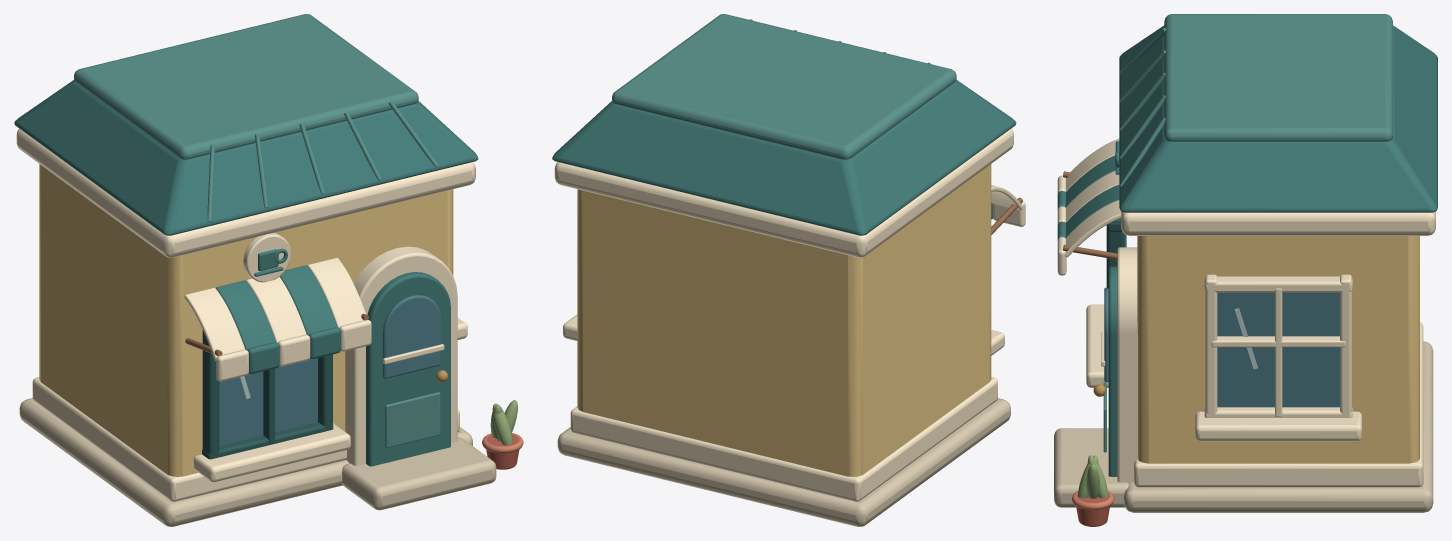
File: cafe_level_1_before.glb
The picture shows the model from 3 angles, left to right: view 1: azimuth 30°, elevation 25°; view 2: azimuth 150°, elevation 25°; view 3: azimuth 270°, elevation 25°; orthographic projection. The views are drawn at different scales.
Visible parts, largest first — view 1: Wall • butter plaster, Roof • soft hipped shell, Roof • rounded crown, Roof • cream cornice, Foundation • stone plinth, Door • teal panel, Door • step, Door • cream arch, Wall • cream skirting, Window • blue glazing, Door • inset glass, Window • deep sill (+17 smaller); view 2: Wall • butter plaster, Roof • soft hipped shell, Roof • rounded crown, Foundation • stone plinth, Roof • cream cornice, Wall • cream skirting; view 3: Wall • butter plaster, Roof • soft hipped shell, Roof • rounded crown, Window • blue glazing.001, Foundation • stone plinth, Wall • cream skirting, Roof • cream cornice, Door • cream arch, Window • deep sill.001, Door • step, Window • lintel.003, Door • teal panel (+14 smaller).
Part boxes in pixels (x1,y1,x2,y2): Wall • butter plaster: (39,164,453,476); Roof • soft hipped shell: (14,80,478,235); Roof • rounded crown: (74,14,418,159); Roof • cream cornice: (16,128,475,257); Foundation • stone plinth: (19,398,472,526); Door • teal panel: (366,272,450,466); Door • step: (342,437,496,510); Door • cream arch: (345,246,457,465); Wall • cream skirting: (32,377,459,501); Window • blue glazing: (219,358,317,445); Door • inset glass: (382,295,441,378); Window • deep sill: (193,423,350,482); Wall • butter plaster: (577,164,991,476); Roof • soft hipped shell: (552,80,1016,235); Roof • rounded crown: (612,14,956,159); Foundation • stone plinth: (557,398,1010,526); Roof • cream cornice: (554,128,1013,257); Wall • cream skirting: (570,377,997,501); Wall • butter plaster: (1137,236,1419,463); Roof • soft hipped shell: (1119,25,1437,212); Roof • rounded crown: (1164,14,1392,141); Window • blue glazing.001: (1217,292,1339,407); Foundation • stone plinth: (1124,341,1433,512); Wall • cream skirting: (1134,322,1423,487); Roof • cream cornice: (1121,211,1435,235); Door • cream arch: (1117,247,1137,483); Window • deep sill.001: (1195,411,1361,441); Door • step: (1054,428,1128,507); Window • lintel.003: (1204,276,1352,292); Door • teal panel: (1108,266,1117,476).
Size of the model in its own units: 3 by 3.02 by 2.85.
